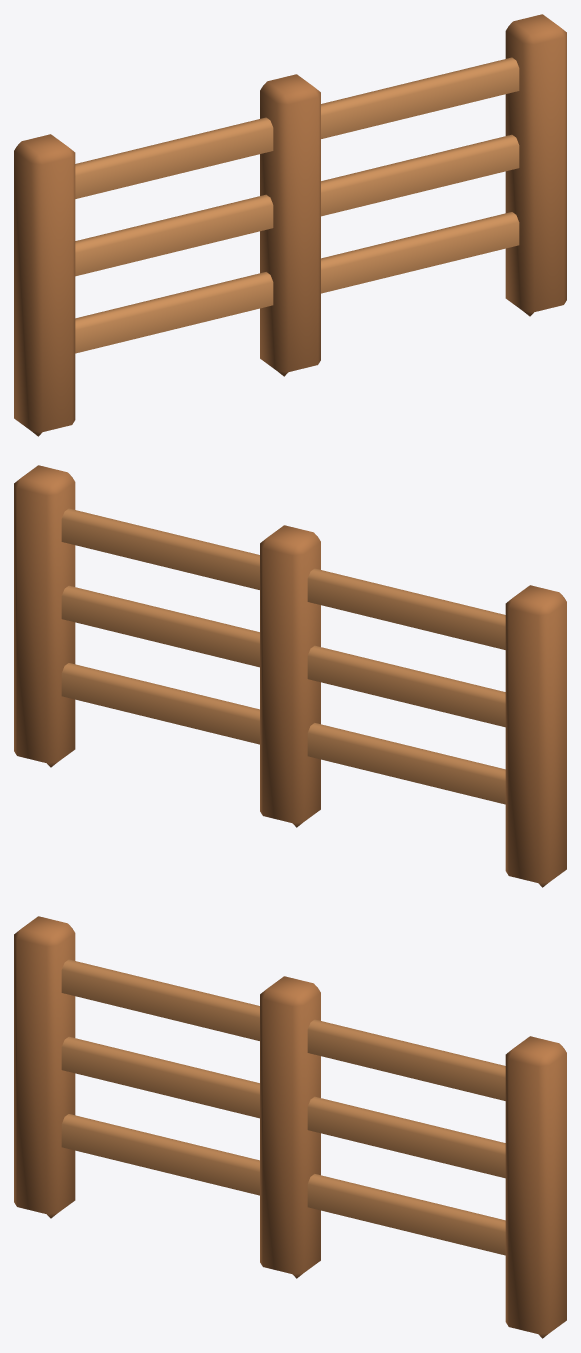
The model's file is fence_wood.glb.
The picture shows the model from 3 angles, top to bottom: view 1: azimuth 30°, elevation 25°; view 2: azimuth 150°, elevation 25°; view 3: azimuth 330°, elevation 25°; orthographic projection.
Visible parts, largest first — view 1: fence_wood; view 2: fence_wood; view 3: fence_wood.
Boxes of the visible parts, <box> form: fence_wood: <box>14,14,566,436</box>; fence_wood: <box>14,465,566,887</box>; fence_wood: <box>14,916,566,1338</box>.
Bounding box in the file's own units: 2.18 × 1.1 × 0.18.
Materials: 1 (1 with a texture image).
